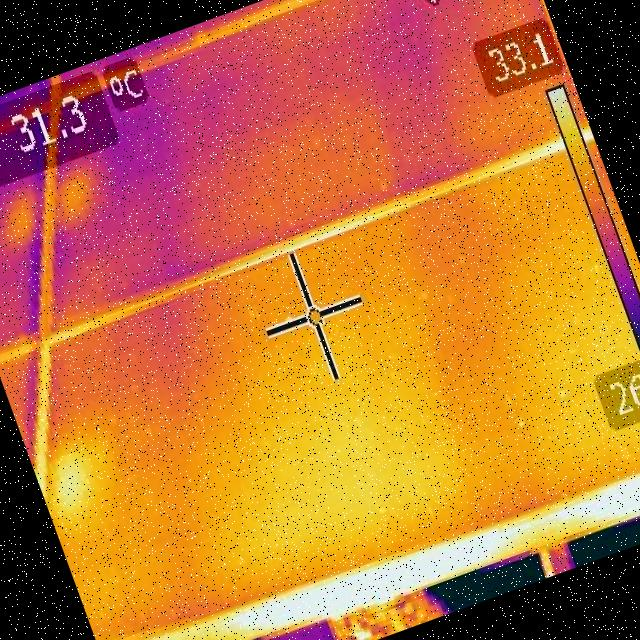Hotspot: (26, 424, 119, 532)
